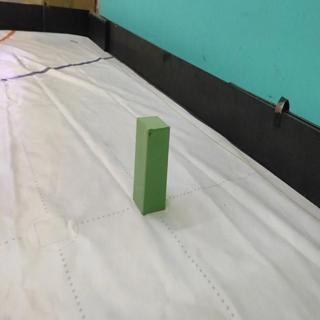greenbox: (131, 115, 172, 218)
